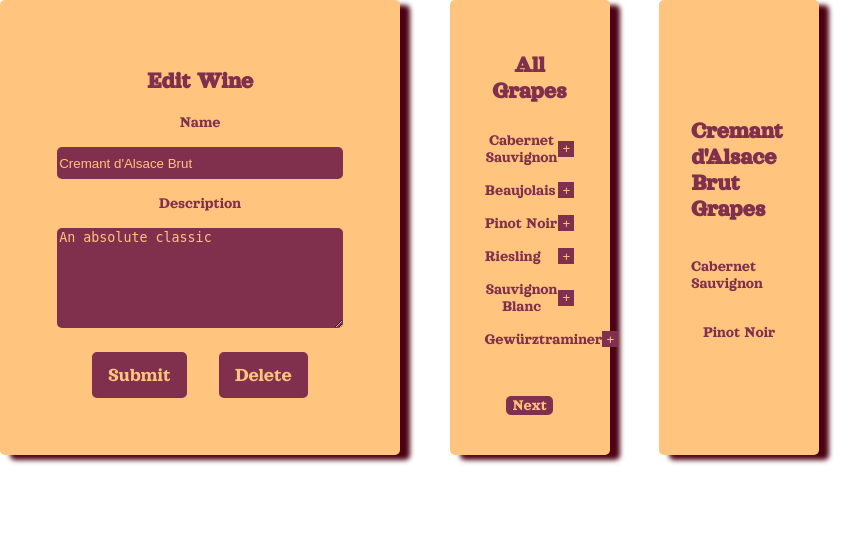
it: <EditWine /> › deletes data on button click
Step 1. Click the button "Delete" → point(263, 375), box x1=219 y1=352 x2=308 y2=398
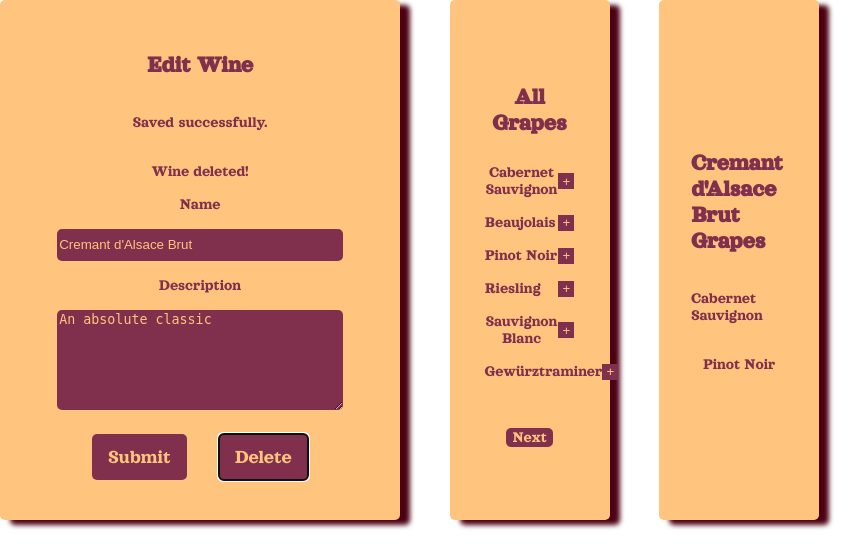
Expected: the text "Wine deleted!" is shown, x1=152 y1=163 x2=248 y2=180
